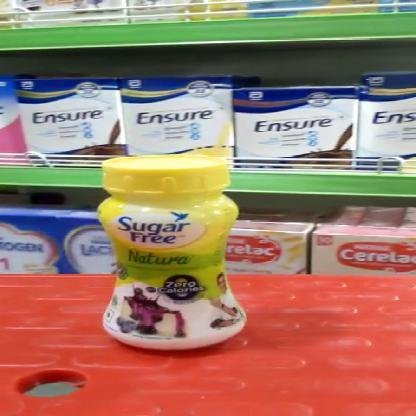SUGAR FREE NATURA_ POWDER_CONC_100G: (100, 152, 249, 353)
